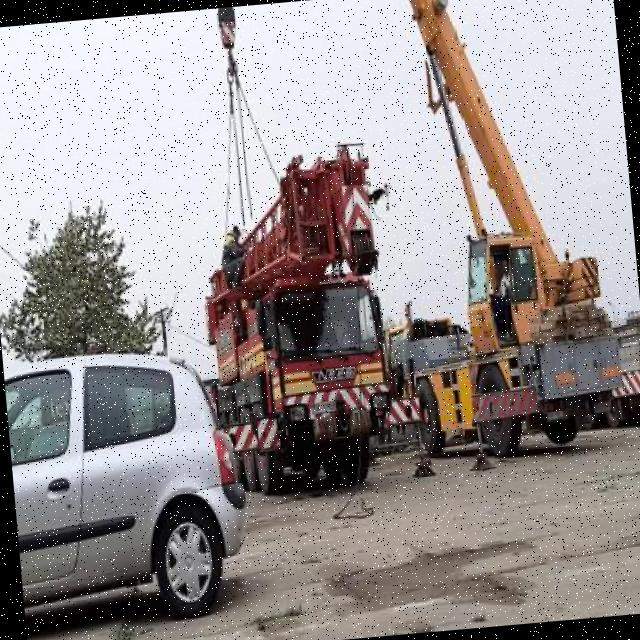Mobile Crane: (392, 0, 640, 467), (209, 146, 433, 496)
